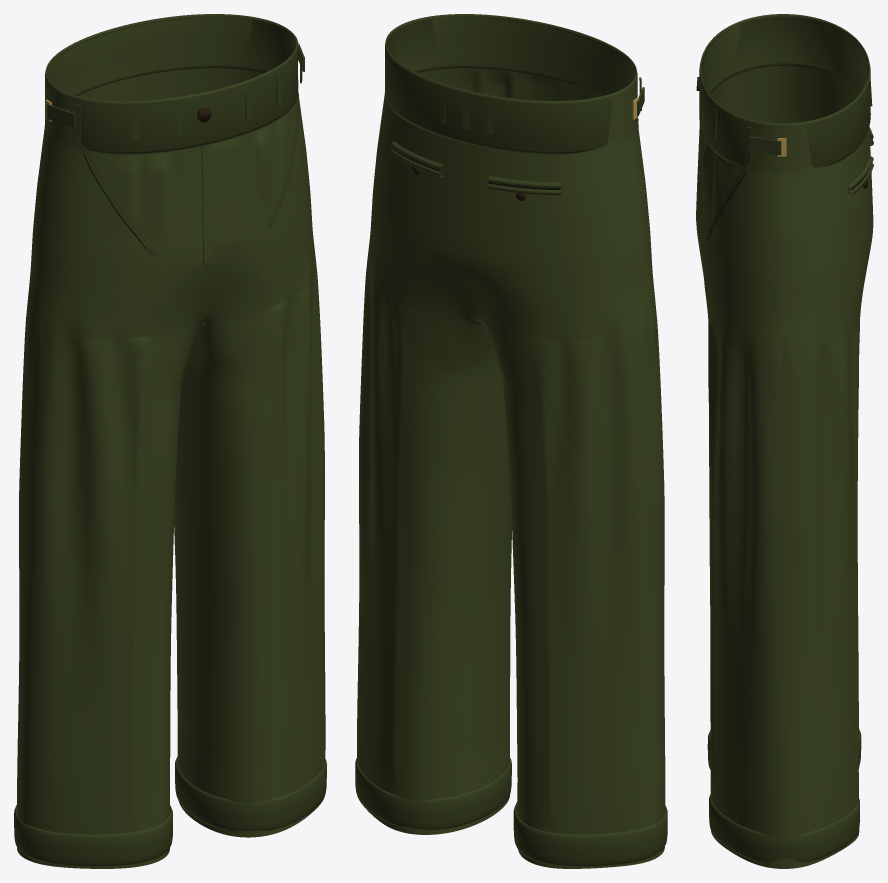
File: trouser10b.glb
3 views of the same model, side by side, from view 1: azimuth 30°, elevation 25°; view 2: azimuth 150°, elevation 25°; view 3: azimuth 270°, elevation 25° (orthographic). The views are drawn at different scales.
Visible parts, largest first — view 1: trouser, waistband, cuff, cuff.001, pocket_lip; view 2: trouser, waistband, cuff, cuff.001; view 3: trouser, waistband, cuff.001, adj_tab.001, pocket_lip.001.
Part boxes in pixels (left/top/right/bottom): trouser: left=17, top=17, right=325, bottom=868; waistband: left=45, top=14, right=297, bottom=154; cuff: left=14, top=805, right=172, bottom=866; cuff.001: left=175, top=756, right=326, bottom=830; pocket_lip: left=81, top=144, right=156, bottom=255; trouser: left=357, top=17, right=665, bottom=868; waistband: left=385, top=14, right=637, bottom=154; cuff: left=513, top=802, right=667, bottom=866; cuff.001: left=355, top=758, right=511, bottom=829; trouser: left=696, top=23, right=873, bottom=868; waistband: left=699, top=14, right=870, bottom=167; cuff.001: left=709, top=794, right=859, bottom=862; adj_tab.001: left=749, top=136, right=781, bottom=155; pocket_lip.001: left=705, top=163, right=748, bottom=243.
Bounding box in the file's own units: 0.4422 × 1.08 × 0.2385.
